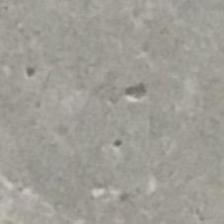Non_Crack: (8, 156, 224, 224)
